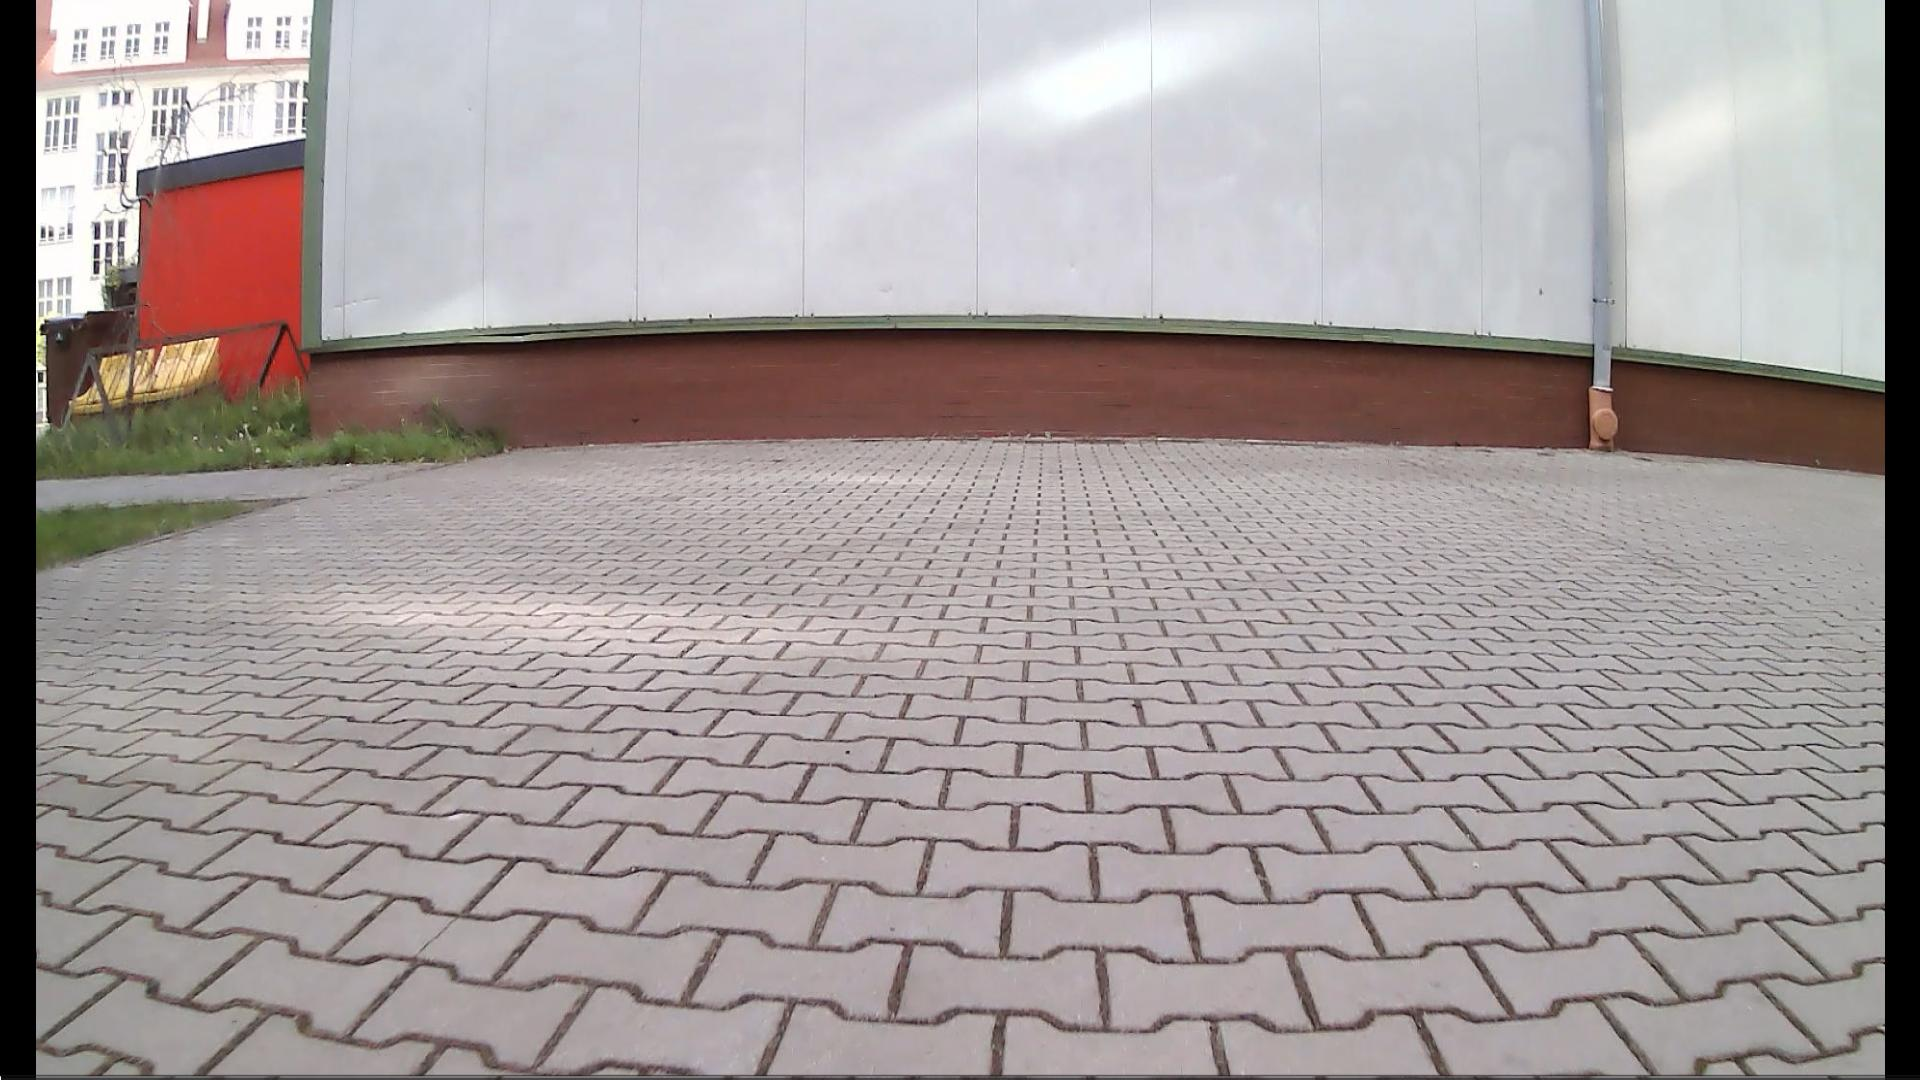wall: (311, 8, 1577, 447)
